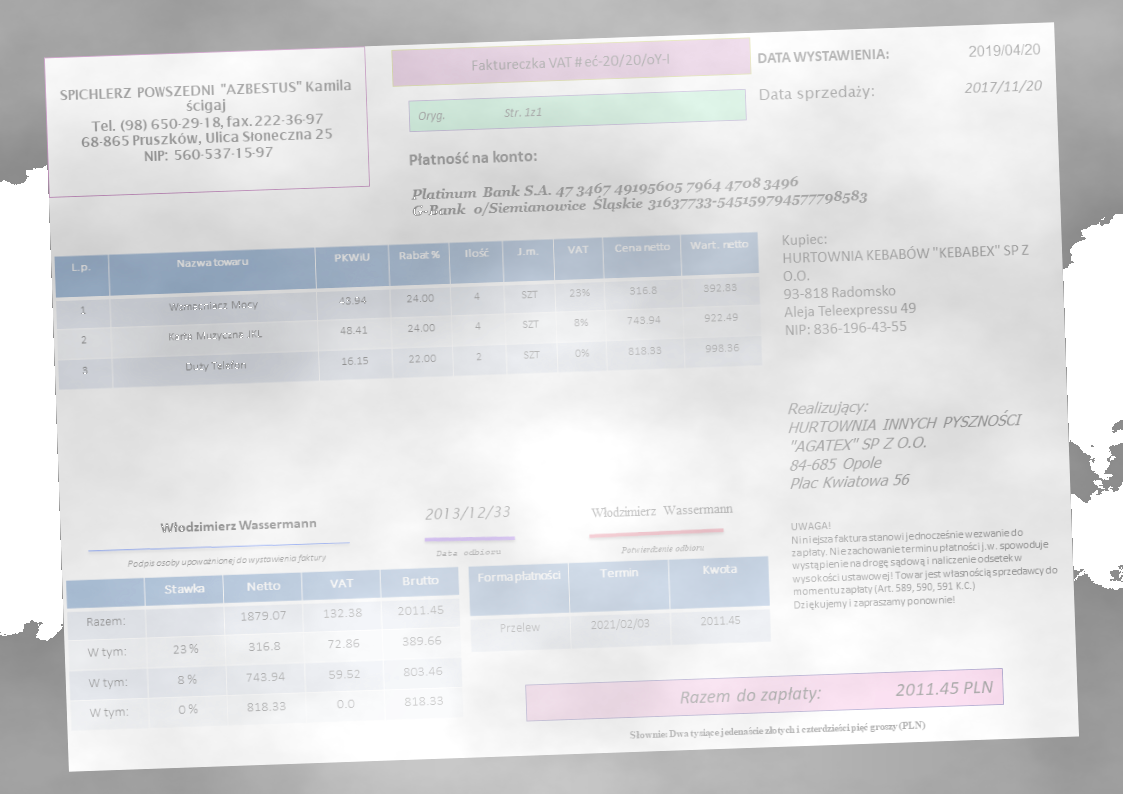Table: (52, 229, 765, 392), (64, 564, 466, 733), (466, 554, 775, 654)
TextBox: (779, 223, 1034, 341), (788, 510, 1064, 612), (57, 76, 358, 169), (783, 389, 1027, 496), (408, 168, 873, 224), (675, 675, 997, 711), (626, 716, 929, 744), (466, 48, 672, 75), (124, 548, 329, 572), (156, 511, 321, 538), (756, 41, 893, 69), (407, 145, 540, 172), (586, 498, 737, 521), (416, 102, 545, 125), (757, 82, 878, 106), (421, 500, 513, 524), (961, 75, 1044, 98), (966, 38, 1044, 60), (430, 542, 505, 561), (618, 541, 707, 557)
